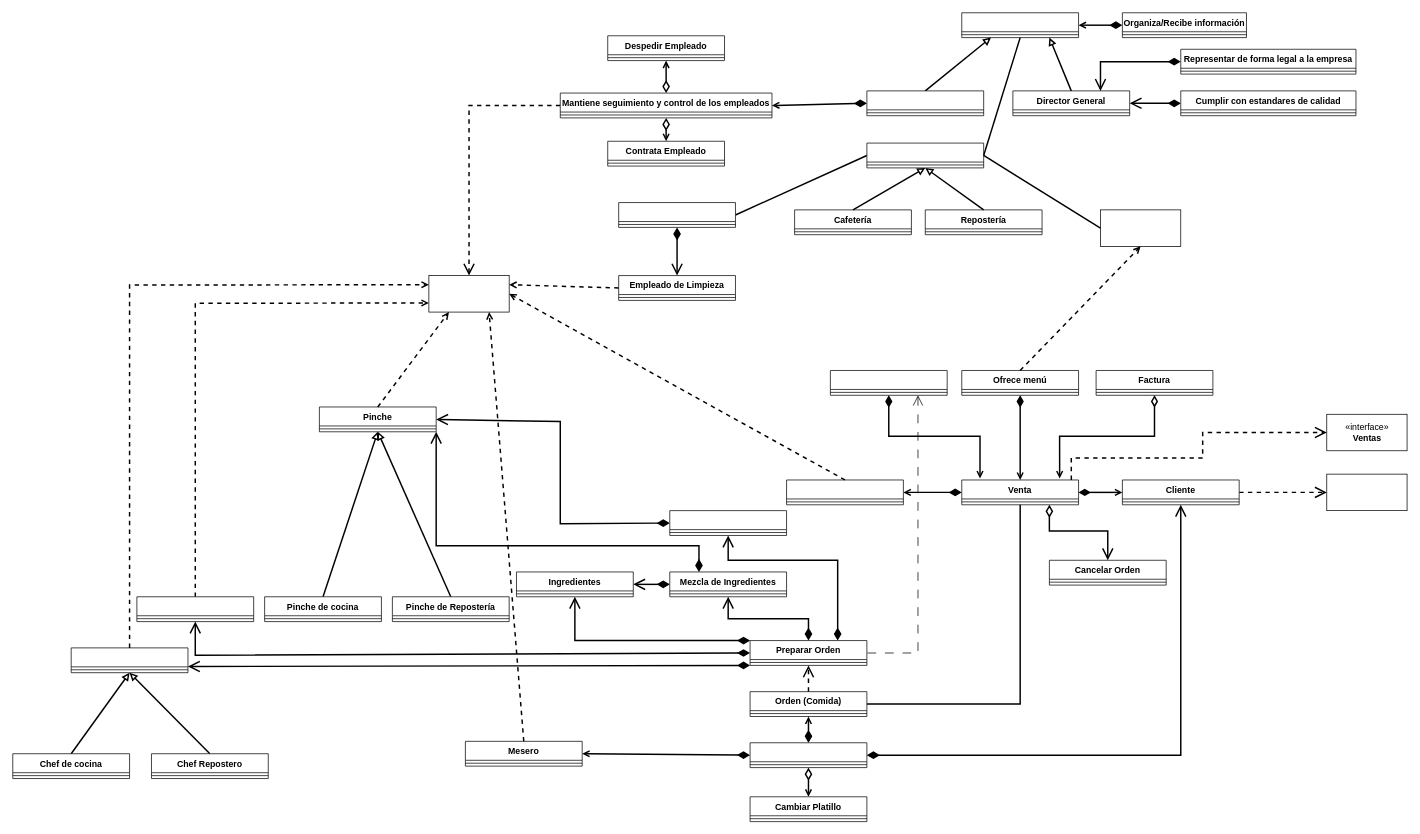
The diagram is 1420 pixels wide and 834 high, and some of its shapes have lost their labels. The shapes that lost their labels are listed below. From the top down, each one's box as (x1, y1, x2, y2) in pixels, then its label:
(961, 12, 1079, 38): Directivos
(866, 90, 984, 116): Gerente
(866, 142, 984, 168): Cadena de Negocios
(618, 202, 735, 227): Limpiar
(1100, 209, 1181, 246): «interface» Productos
(428, 275, 509, 312): «interface» Empleados
(830, 370, 947, 395): Genera Orden
(786, 479, 903, 505): Cajero
(1326, 473, 1407, 511): «interface» Clientes
(669, 510, 787, 535): Preparar Hornos
(136, 596, 254, 622): Empleado de Cafetería
(70, 647, 188, 673): Chef
(749, 742, 867, 768): Entrega/Recibe Orden
